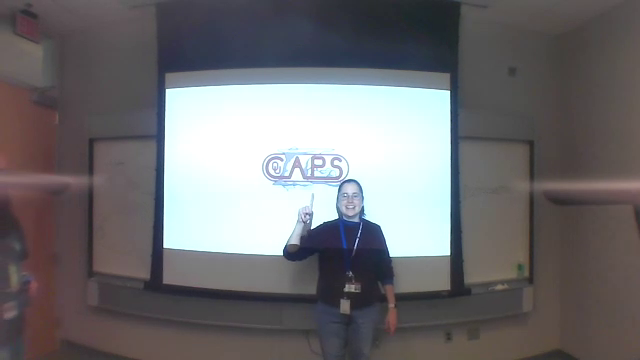up: (287, 188, 316, 230)
